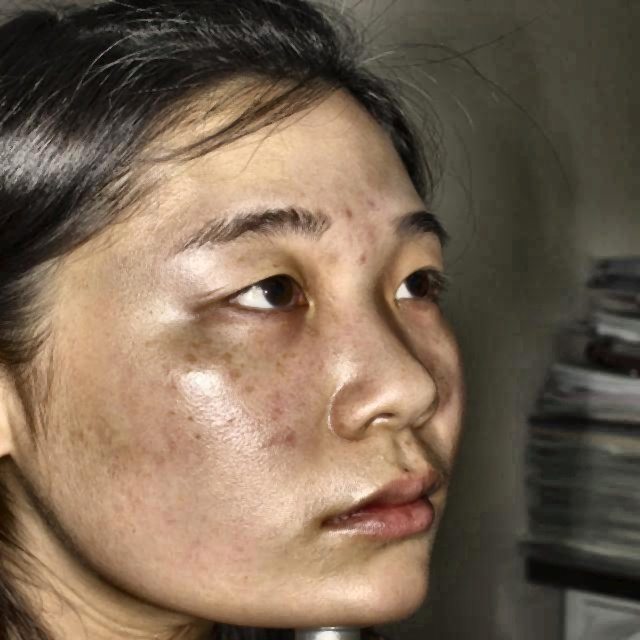comedone: (355, 254, 380, 266), (342, 206, 355, 226)
